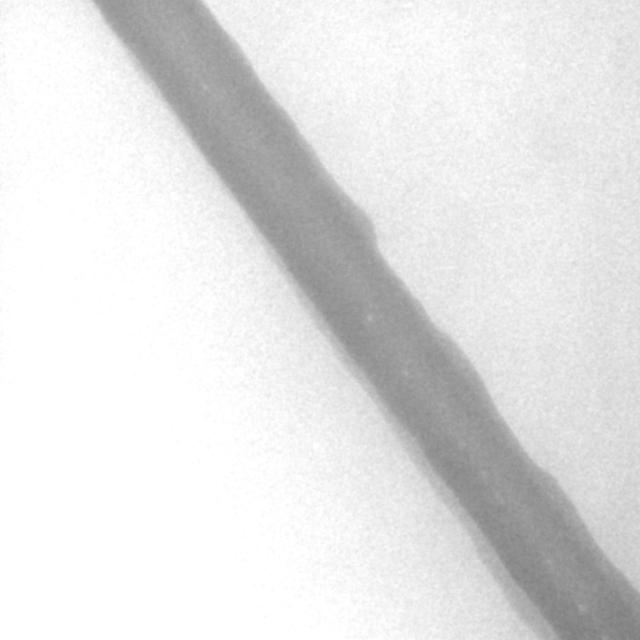air hole: (575, 599, 586, 615), (363, 309, 374, 324)
